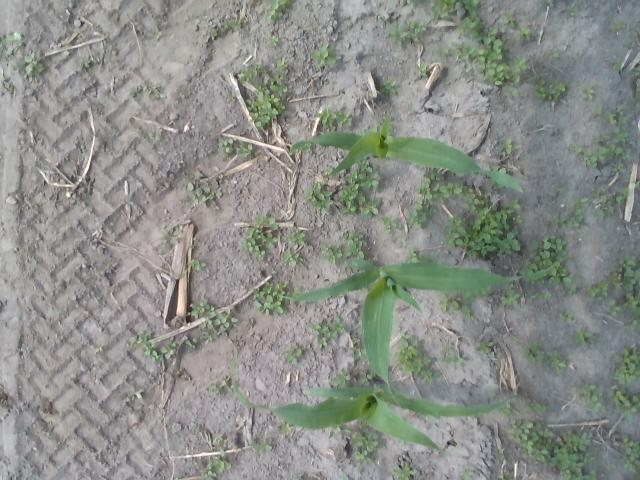Maize: (282, 253, 564, 410), (230, 352, 516, 454), (289, 116, 525, 192)
Weeds: (505, 418, 595, 472), (446, 194, 520, 258), (452, 42, 510, 86), (521, 234, 572, 283), (583, 255, 640, 297), (246, 69, 287, 127), (340, 159, 378, 218), (398, 330, 438, 384), (243, 214, 279, 260), (544, 198, 588, 229), (570, 143, 624, 166), (417, 180, 479, 200), (252, 282, 288, 314), (188, 166, 224, 196), (608, 389, 640, 422), (615, 344, 640, 384), (130, 331, 163, 361), (305, 181, 333, 215), (348, 426, 379, 452), (619, 434, 640, 472), (188, 187, 222, 209), (594, 194, 622, 219), (312, 43, 341, 67), (533, 80, 565, 100), (213, 307, 237, 333), (308, 320, 330, 348), (431, 0, 456, 24), (201, 459, 231, 479), (457, 17, 483, 40), (522, 340, 544, 366), (386, 20, 406, 48), (392, 461, 418, 480), (558, 467, 595, 480), (546, 350, 566, 374), (438, 350, 462, 370), (316, 107, 338, 128), (188, 299, 210, 319), (24, 54, 44, 75), (574, 382, 595, 402), (406, 208, 427, 228), (620, 291, 640, 311), (330, 368, 350, 388), (574, 326, 595, 345), (286, 227, 306, 246), (282, 346, 302, 364), (440, 293, 460, 311), (484, 28, 504, 46), (250, 438, 272, 454), (328, 316, 344, 338), (344, 242, 366, 258), (348, 344, 366, 363), (588, 392, 605, 412), (320, 249, 342, 264), (500, 290, 520, 306), (214, 436, 228, 458), (380, 216, 397, 234), (218, 138, 234, 157), (499, 400, 518, 416), (161, 228, 180, 244), (283, 251, 303, 266), (341, 230, 364, 243), (334, 111, 352, 127), (161, 340, 176, 359), (464, 290, 489, 301), (462, 0, 478, 17), (512, 56, 528, 73), (380, 79, 398, 94), (8, 56, 24, 72), (407, 20, 427, 32), (476, 340, 492, 354), (498, 138, 512, 154), (1, 77, 14, 94), (0, 37, 13, 54), (186, 259, 206, 270), (424, 171, 446, 181), (502, 13, 516, 28), (265, 0, 286, 10), (608, 300, 621, 316), (461, 464, 474, 480), (150, 88, 167, 100), (238, 67, 252, 81), (503, 86, 517, 100), (614, 128, 628, 142), (580, 84, 594, 98), (516, 26, 529, 40), (358, 372, 371, 386), (602, 111, 615, 125), (629, 312, 640, 328), (530, 400, 546, 411), (424, 204, 434, 221), (210, 383, 223, 396), (301, 143, 314, 156), (240, 144, 252, 158), (592, 184, 606, 196), (560, 310, 574, 322), (406, 248, 418, 262), (612, 20, 626, 32), (6, 33, 24, 42), (461, 304, 472, 318), (200, 332, 212, 344), (149, 130, 163, 140), (612, 163, 626, 173), (564, 284, 578, 294), (354, 450, 368, 460), (265, 10, 277, 21), (282, 421, 294, 432), (128, 86, 141, 96), (185, 338, 198, 348), (541, 288, 552, 299), (407, 30, 419, 40), (635, 78, 640, 100), (202, 317, 212, 328), (414, 198, 423, 210), (614, 57, 622, 70), (508, 72, 521, 80), (545, 49, 558, 57), (268, 36, 278, 46), (220, 374, 230, 384), (252, 61, 263, 70), (622, 147, 631, 158), (548, 188, 564, 194), (438, 47, 448, 56), (276, 58, 286, 67), (606, 461, 616, 470), (566, 7, 576, 16), (599, 133, 610, 141), (620, 186, 628, 197), (356, 463, 364, 474), (224, 18, 232, 28), (498, 475, 514, 480), (616, 104, 624, 114), (352, 333, 359, 344), (325, 166, 333, 175), (136, 389, 144, 398), (81, 60, 91, 67), (322, 245, 332, 252), (421, 60, 428, 70), (232, 20, 240, 28), (210, 28, 218, 36), (592, 110, 602, 116), (228, 93, 235, 101), (491, 164, 498, 171), (96, 347, 103, 354), (308, 26, 316, 32), (156, 30, 162, 38), (445, 342, 451, 350), (179, 94, 188, 99), (416, 70, 424, 75), (638, 63, 640, 78), (406, 0, 412, 3), (547, 0, 552, 3), (144, 85, 146, 90)
